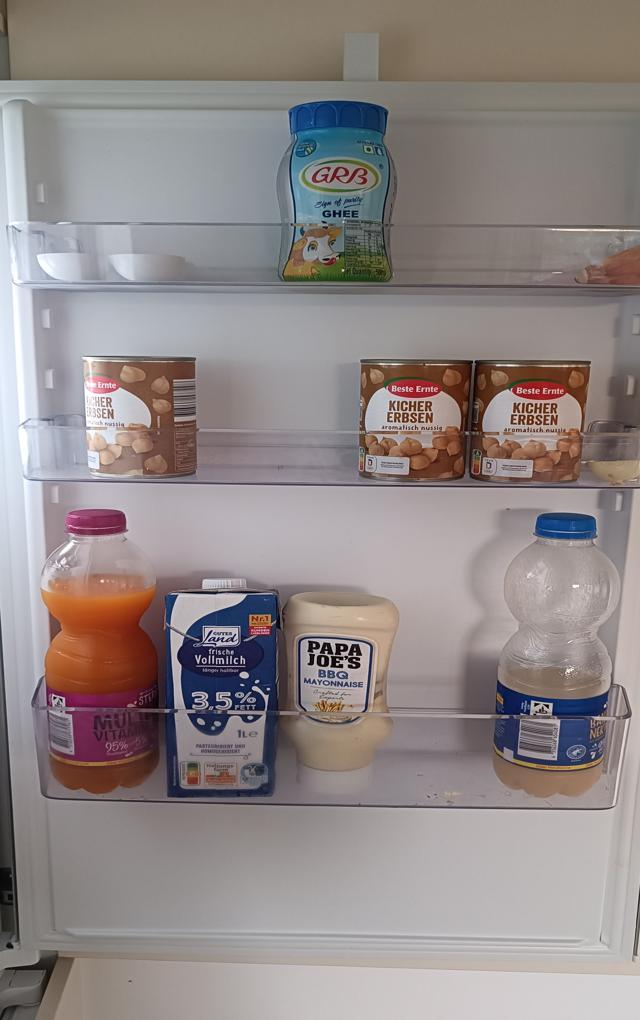bananajuice: (495, 505, 626, 799)
chickpeas: (82, 355, 200, 479), (360, 359, 469, 487), (477, 359, 588, 482)
ghee: (277, 102, 399, 288)
mayoniasie: (281, 590, 399, 797)
milk: (163, 576, 284, 803)
orangejuice: (38, 506, 161, 793)
